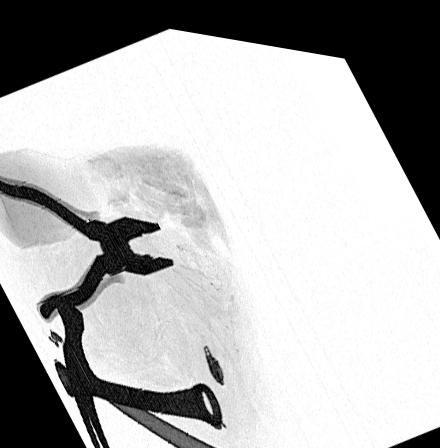Hammer: (49, 290, 238, 448)
Pliers: (0, 172, 174, 325)
Wrench: (53, 356, 223, 421)
